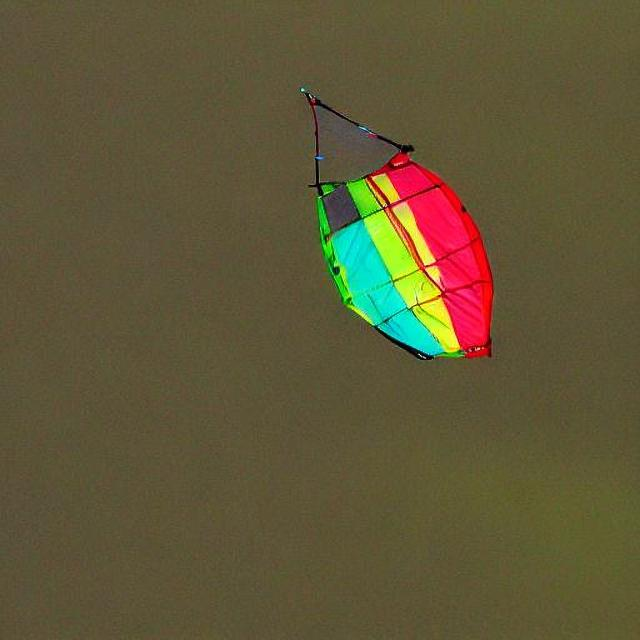floating object: (313, 142, 494, 356)
